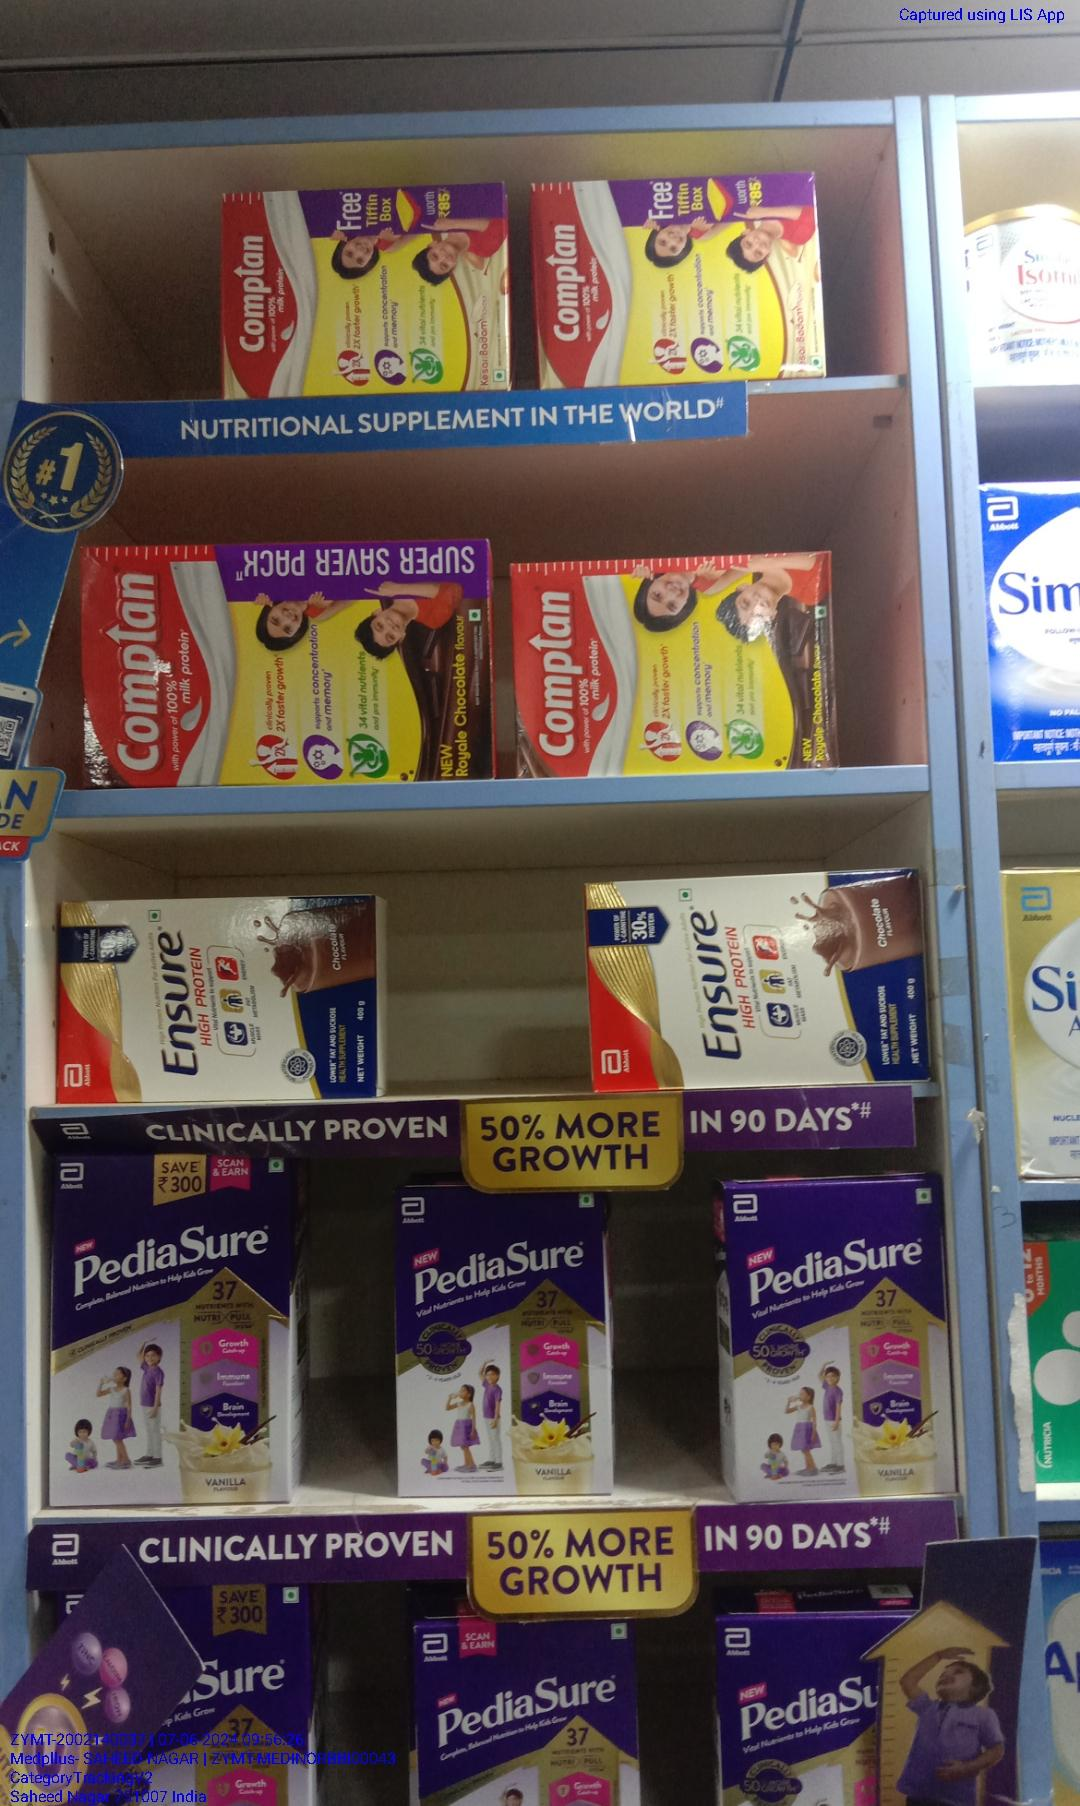COMPLAN_CHOCOLATE_1_KG_PACK: (84, 548, 491, 783)
COMPLAN_CHOCOLATE_500_GMS_PACK: (514, 563, 829, 775)
COMPLAN_KESAR_BADAM_500_GMS_PACK: (221, 193, 510, 393), (537, 179, 822, 382)
PEDIASURE_VANILLA_500_G_PACK: (55, 1153, 284, 1501), (730, 1183, 951, 1495), (400, 1186, 602, 1495)
